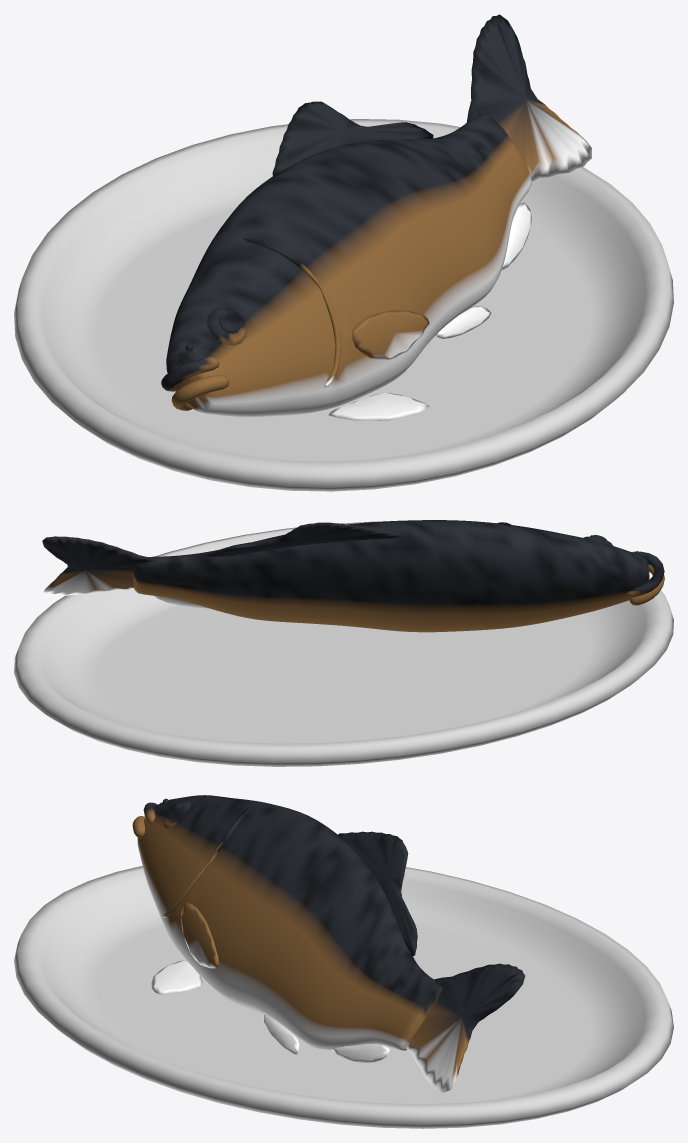
Rendered from SM_fish.fbx.
The picture shows the model from 3 angles, top to bottom: view 1: azimuth 30°, elevation 25°; view 2: azimuth 150°, elevation 25°; view 3: azimuth 270°, elevation 25°; orthographic projection. The views are drawn at different scales.
Parts seen in each view (by area): view 1: SM_fish; view 2: SM_fish; view 3: SM_fish.
Boxes of the visible parts, x1=… form: SM_fish: x1=14, y1=14, x2=673, y2=491; SM_fish: x1=14, y1=520, x2=673, y2=766; SM_fish: x1=14, y1=795, x2=673, y2=1128.
Bounding box in the file's own units: 0.276 × 0.0942 × 0.2947.
